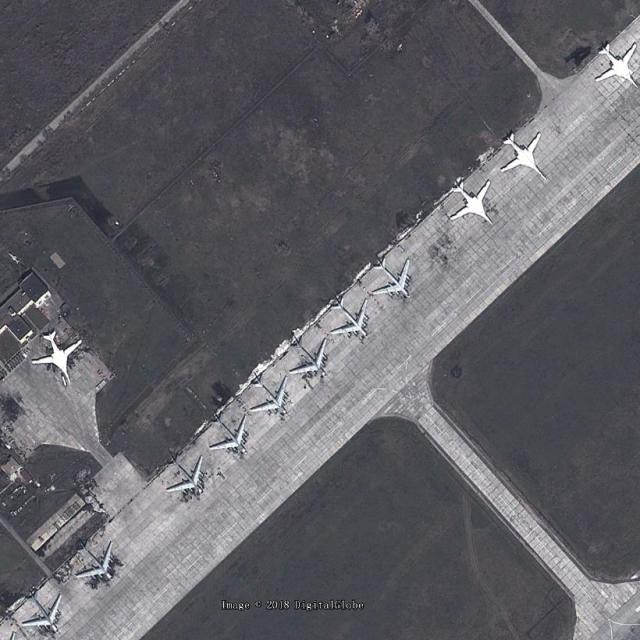fighter jet: (27, 329, 82, 377), (447, 180, 497, 228), (372, 249, 415, 303), (162, 448, 206, 494), (18, 588, 61, 634), (326, 292, 367, 338), (72, 543, 119, 583), (208, 407, 248, 454), (286, 330, 326, 376), (248, 372, 289, 416), (502, 135, 544, 177)
